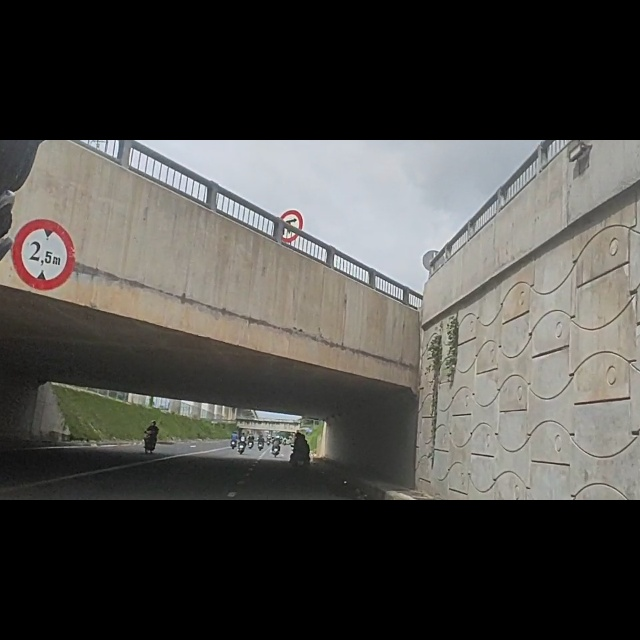bien_cam: (12, 135, 78, 274), (277, 120, 308, 183)
